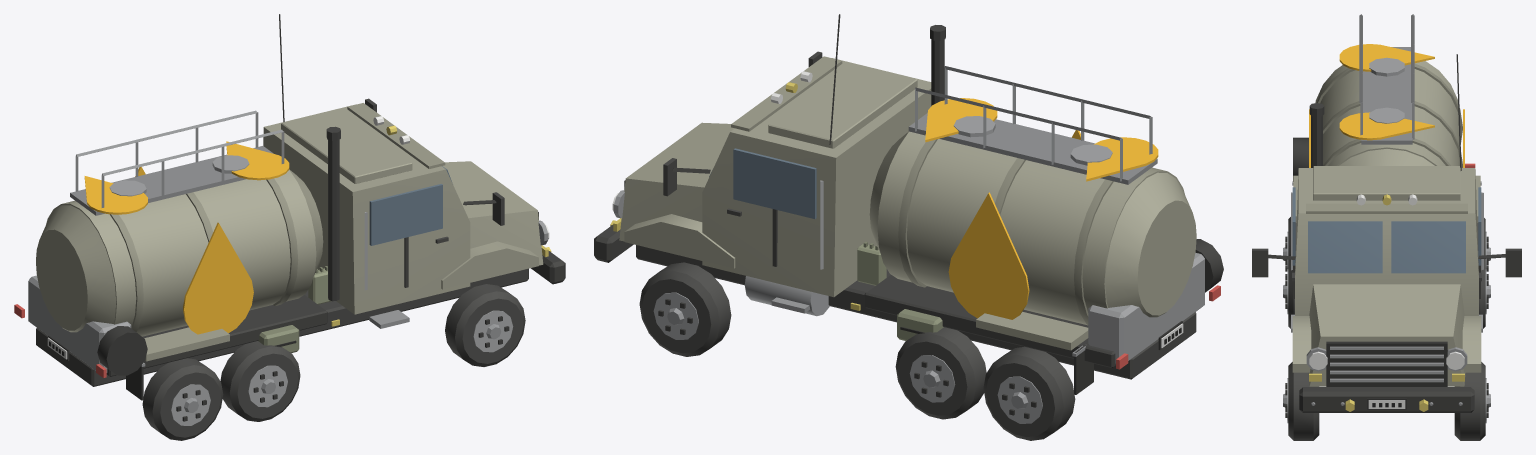
The model's file is fueltruck.glb.
3 renders of one model, left to right at view 1: azimuth 30°, elevation 25°; view 2: azimuth 150°, elevation 25°; view 3: azimuth 270°, elevation 25°, orthographic. The views are drawn at different scales.
Visible parts, largest first — view 1: hull; view 2: hull; view 3: hull.
Part boxes in pixels (x1,y1,x2,y2): hull: [14, 14, 565, 440]; hull: [594, 14, 1223, 440]; hull: [1252, 14, 1521, 440].
Bounding box in the file's own units: 7.37 × 4.79 × 3.66.
